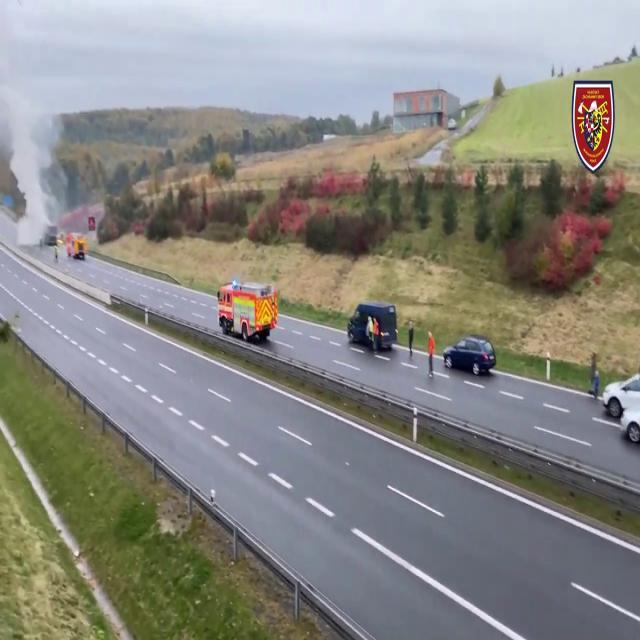Fire: (220, 279, 282, 333)
Smoke: (0, 66, 90, 240)
